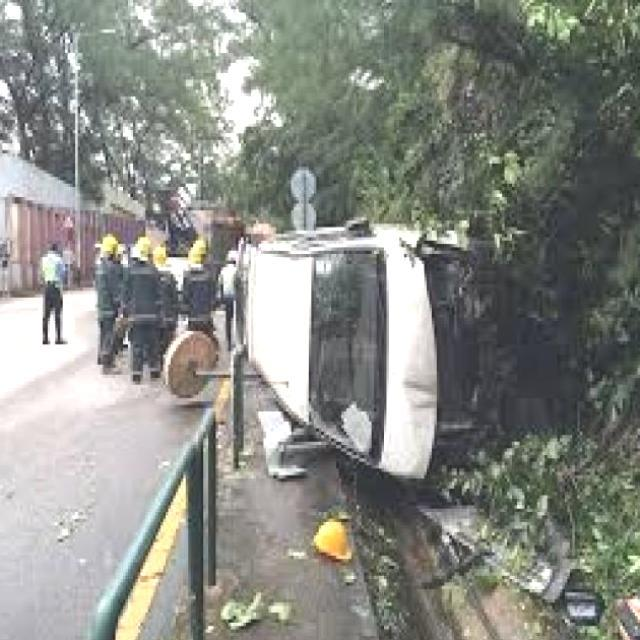accident: (241, 225, 521, 500)
